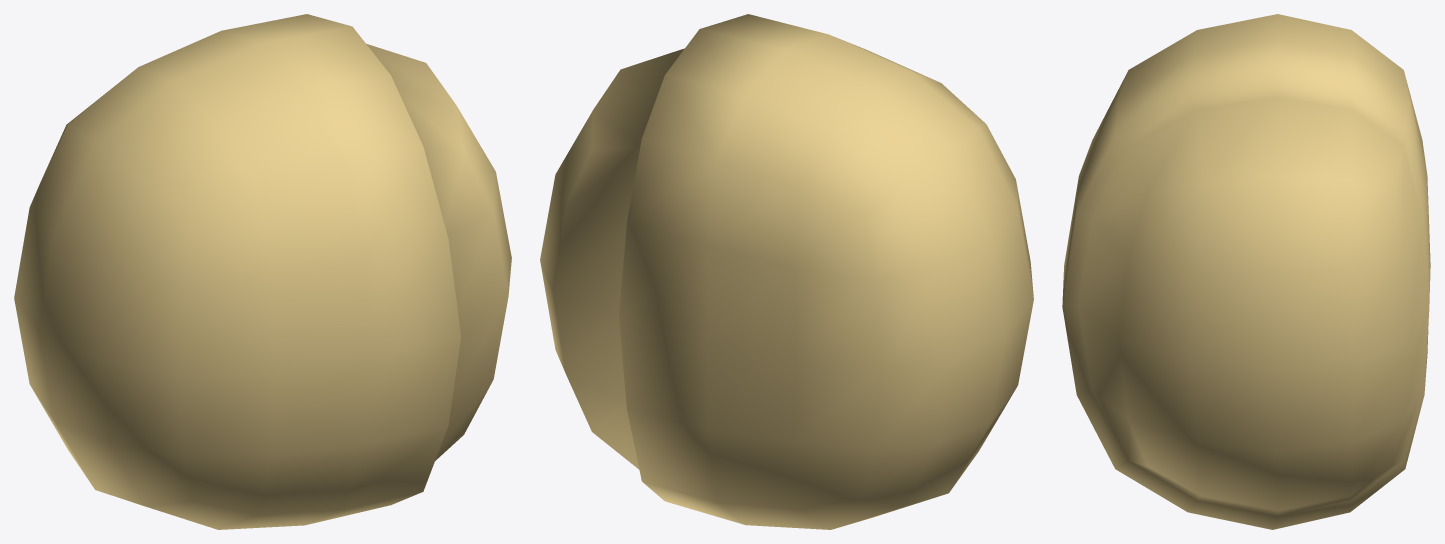
Rendered from burgerTray.fbx.
The picture shows the model from 3 angles, left to right: view 1: azimuth 30°, elevation 25°; view 2: azimuth 150°, elevation 25°; view 3: azimuth 270°, elevation 25°; orthographic projection. The views are drawn at different scales.
Parts seen in each view (by area): view 1: burgerTray; view 2: burgerTray; view 3: burgerTray.
Part boxes in pixels (left/top/right/bottom): burgerTray: left=14, top=14, right=511, bottom=529; burgerTray: left=540, top=14, right=1033, bottom=529; burgerTray: left=1062, top=14, right=1430, bottom=529.
Size of the model in its own units: 0.3754 by 0.3754 by 0.2782.
